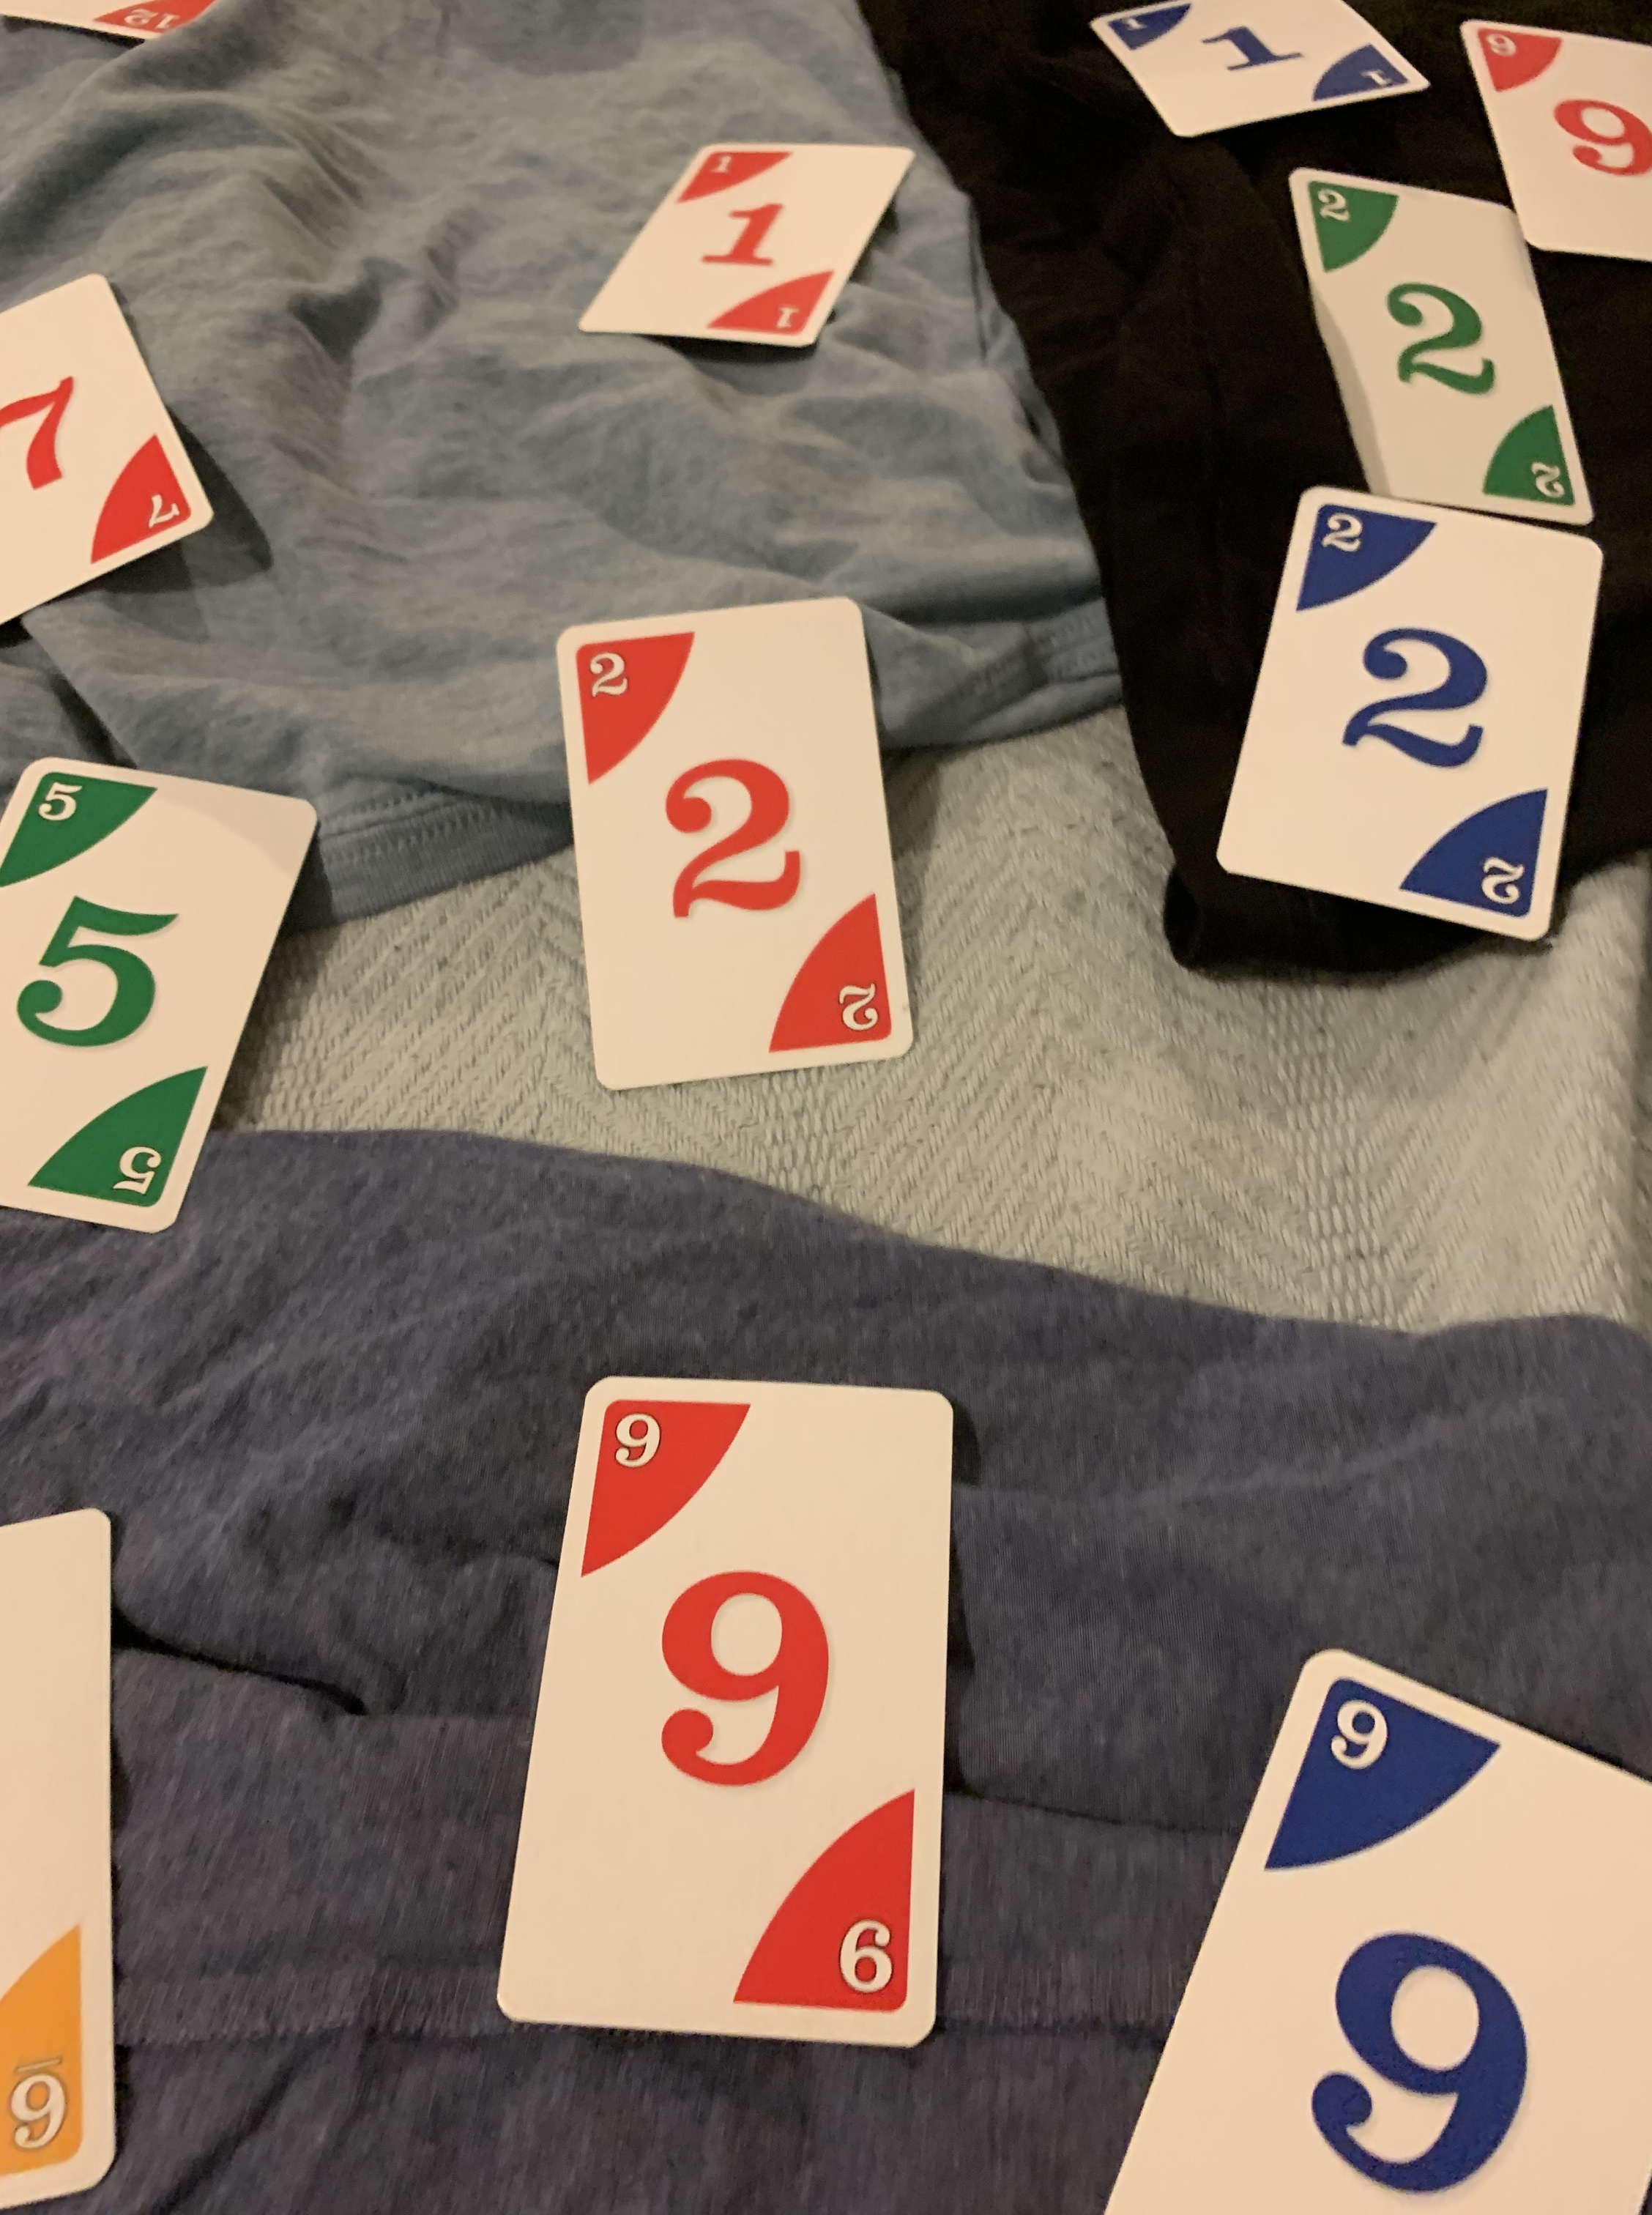five: (0, 752, 316, 1239)
nine: (1069, 1644, 1652, 2213), (488, 1370, 958, 2059), (1461, 14, 1652, 267)
one: (578, 139, 918, 356)
two: (1208, 477, 1616, 948), (540, 590, 918, 1094), (1281, 154, 1600, 533)
